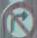Don't turn right: (3, 3, 35, 37)
